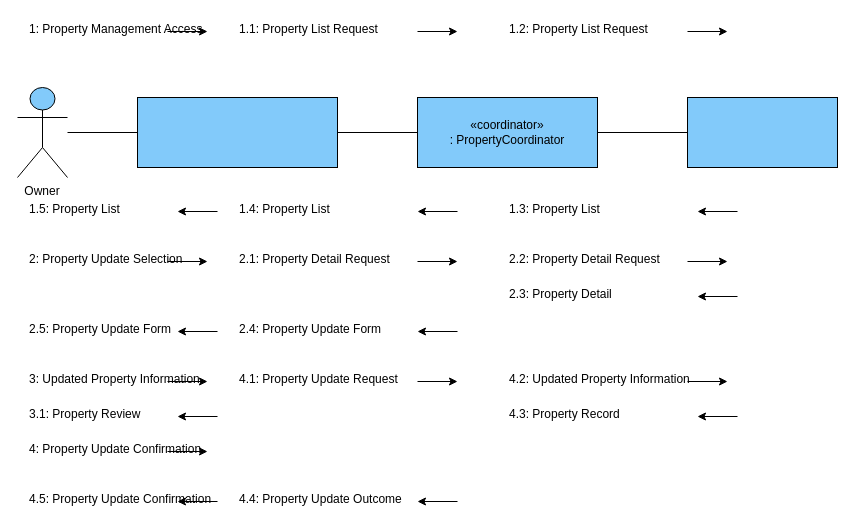
The diagram is 855 pixels wide and 528 high, and some of its shapes have lost their labels. The shapes that lost their labels are listed below. From the top down, each one's centre as x and y in pixels, then its label:
At (x=237, y=132): "«user interaction» : PropertyManagementUI".
At (x=762, y=132): "«entity» : Property".
